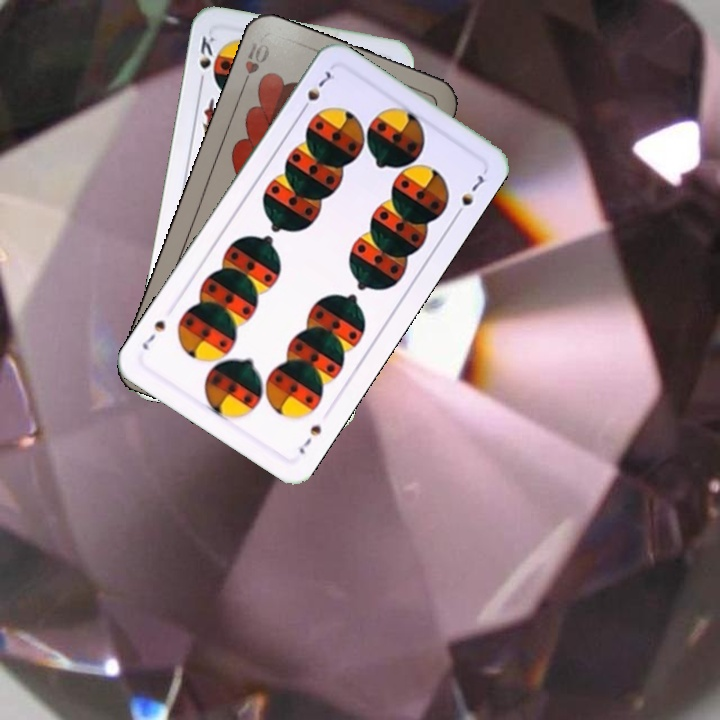H10: (237, 38, 272, 93)
S7: (296, 64, 338, 116), (294, 420, 324, 457)
SK: (195, 32, 219, 89)
